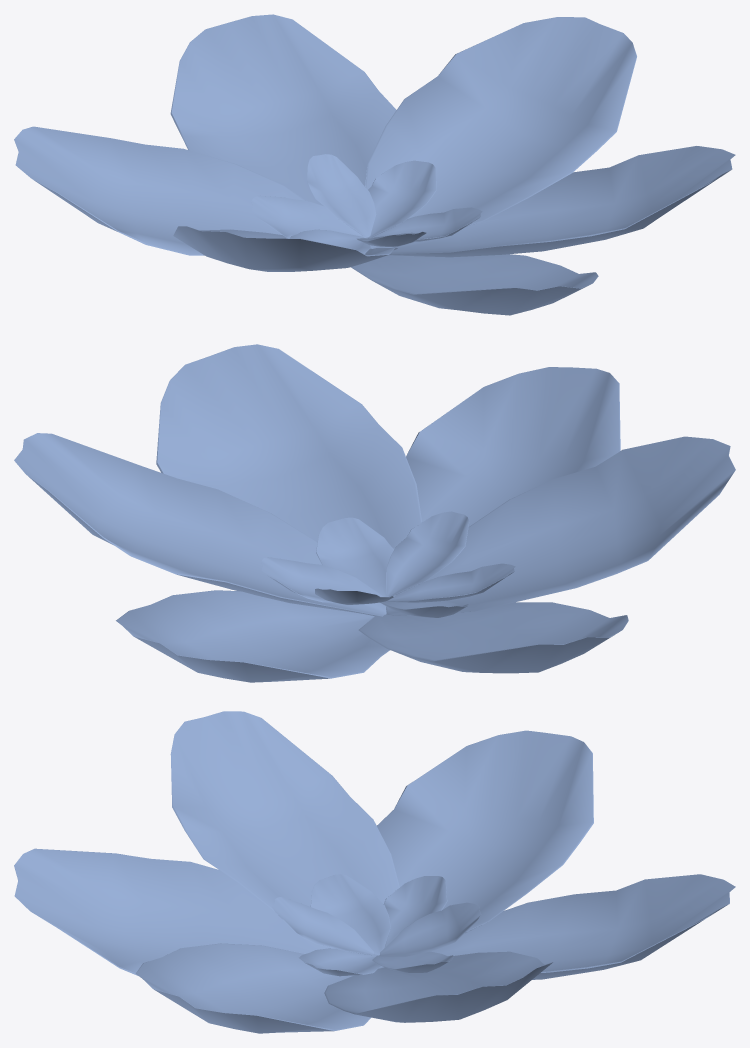
The model's file is Flower_002.fbx.
3 views of the same model, one above another, from view 1: azimuth 30°, elevation 25°; view 2: azimuth 150°, elevation 25°; view 3: azimuth 270°, elevation 25° (orthographic). The views are drawn at different scales.
Parts seen in each view (by area): view 1: Flor2; view 2: Flor2; view 3: Flor2.
Part boxes in pixels (x1,y1,x2,y2): Flor2: (14,14,735,315); Flor2: (14,344,735,682); Flor2: (14,711,735,1033).
Size of the model in its own units: 68.85 by 16.2 by 74.56.
